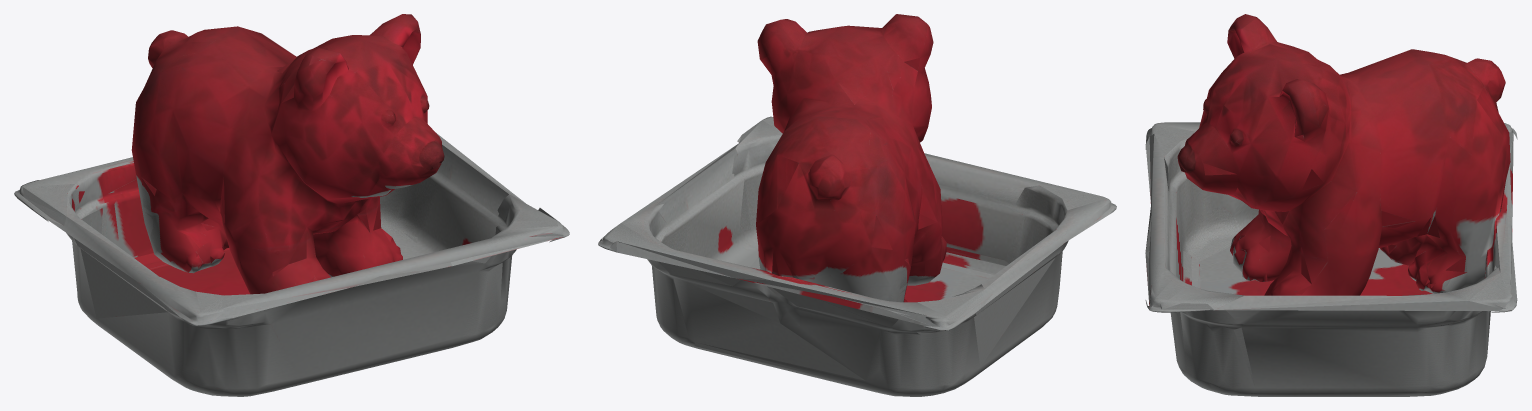
The model's file is Meshy_AI_Ruby_Bear_Bath_0831064603_texture.fbx.
3 views of the same model, side by side, from view 1: azimuth 30°, elevation 25°; view 2: azimuth 150°, elevation 25°; view 3: azimuth 270°, elevation 25° (orthographic). The views are drawn at different scales.
Parts seen in each view (by area): view 1: output_unwrapped; view 2: output_unwrapped; view 3: output_unwrapped.
Part boxes in pixels (<box>): output_unwrapped: <box>14,14,569,396</box>; output_unwrapped: <box>598,14,1116,396</box>; output_unwrapped: <box>1145,14,1517,396</box>.
Size of the model in its own units: 190 by 144 by 161.
Materials: 1 (1 with a texture image).
